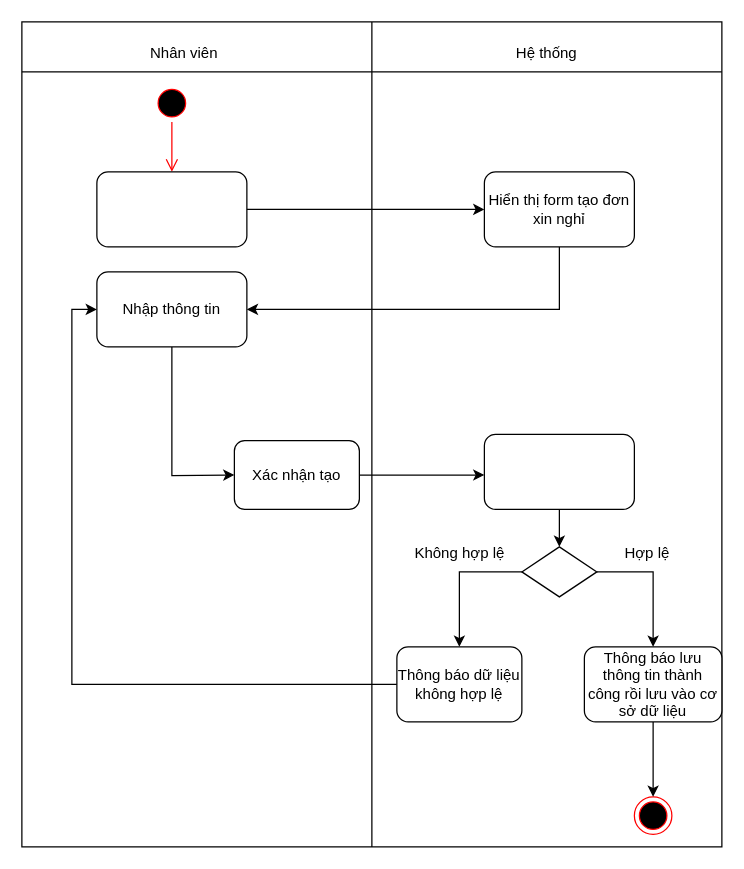
Image size: 744x869. Some labels were removed from this diagram. Here are the shapes that lost their labels. From the top down, the centre of each, then its label:
the point at 171,209: Ấn chọn tạo đơn xin nghỉ
the point at 558,471: Kiểm tra thông tin đầu vào
